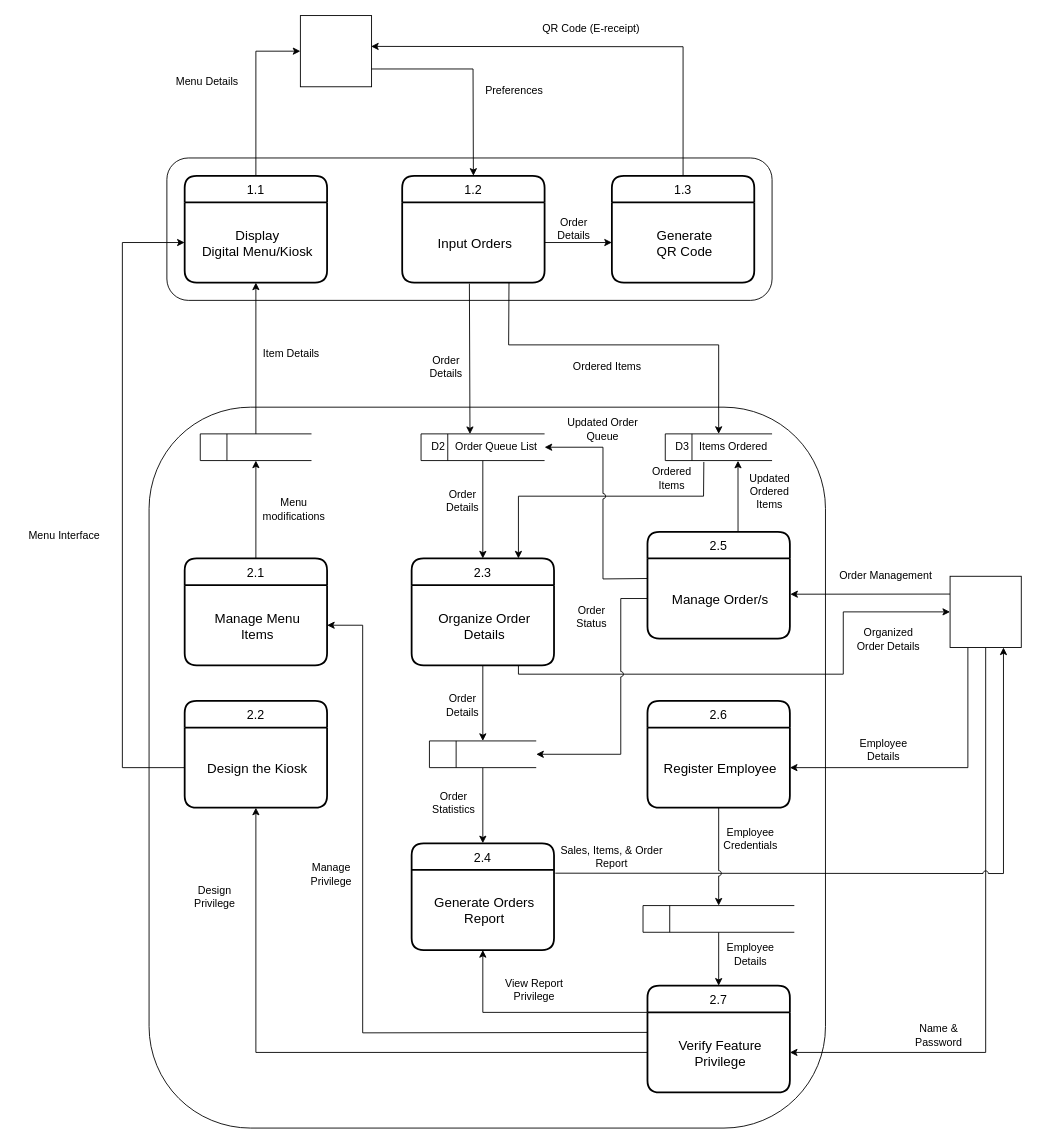
The diagram is 1037 pixels wide and 1144 high, and some of its shapes have lost their labels. Each missing label, with the centre of its shape:
"Customer" belongs at point 335,51.
"D1 Menu Items" belongs at point 255,447.
"D4 Order Statistics" belongs at point 482,754.
"D5 Registered Employees" belongs at point 718,918.
"Establishment Employee" belongs at point 985,611.
